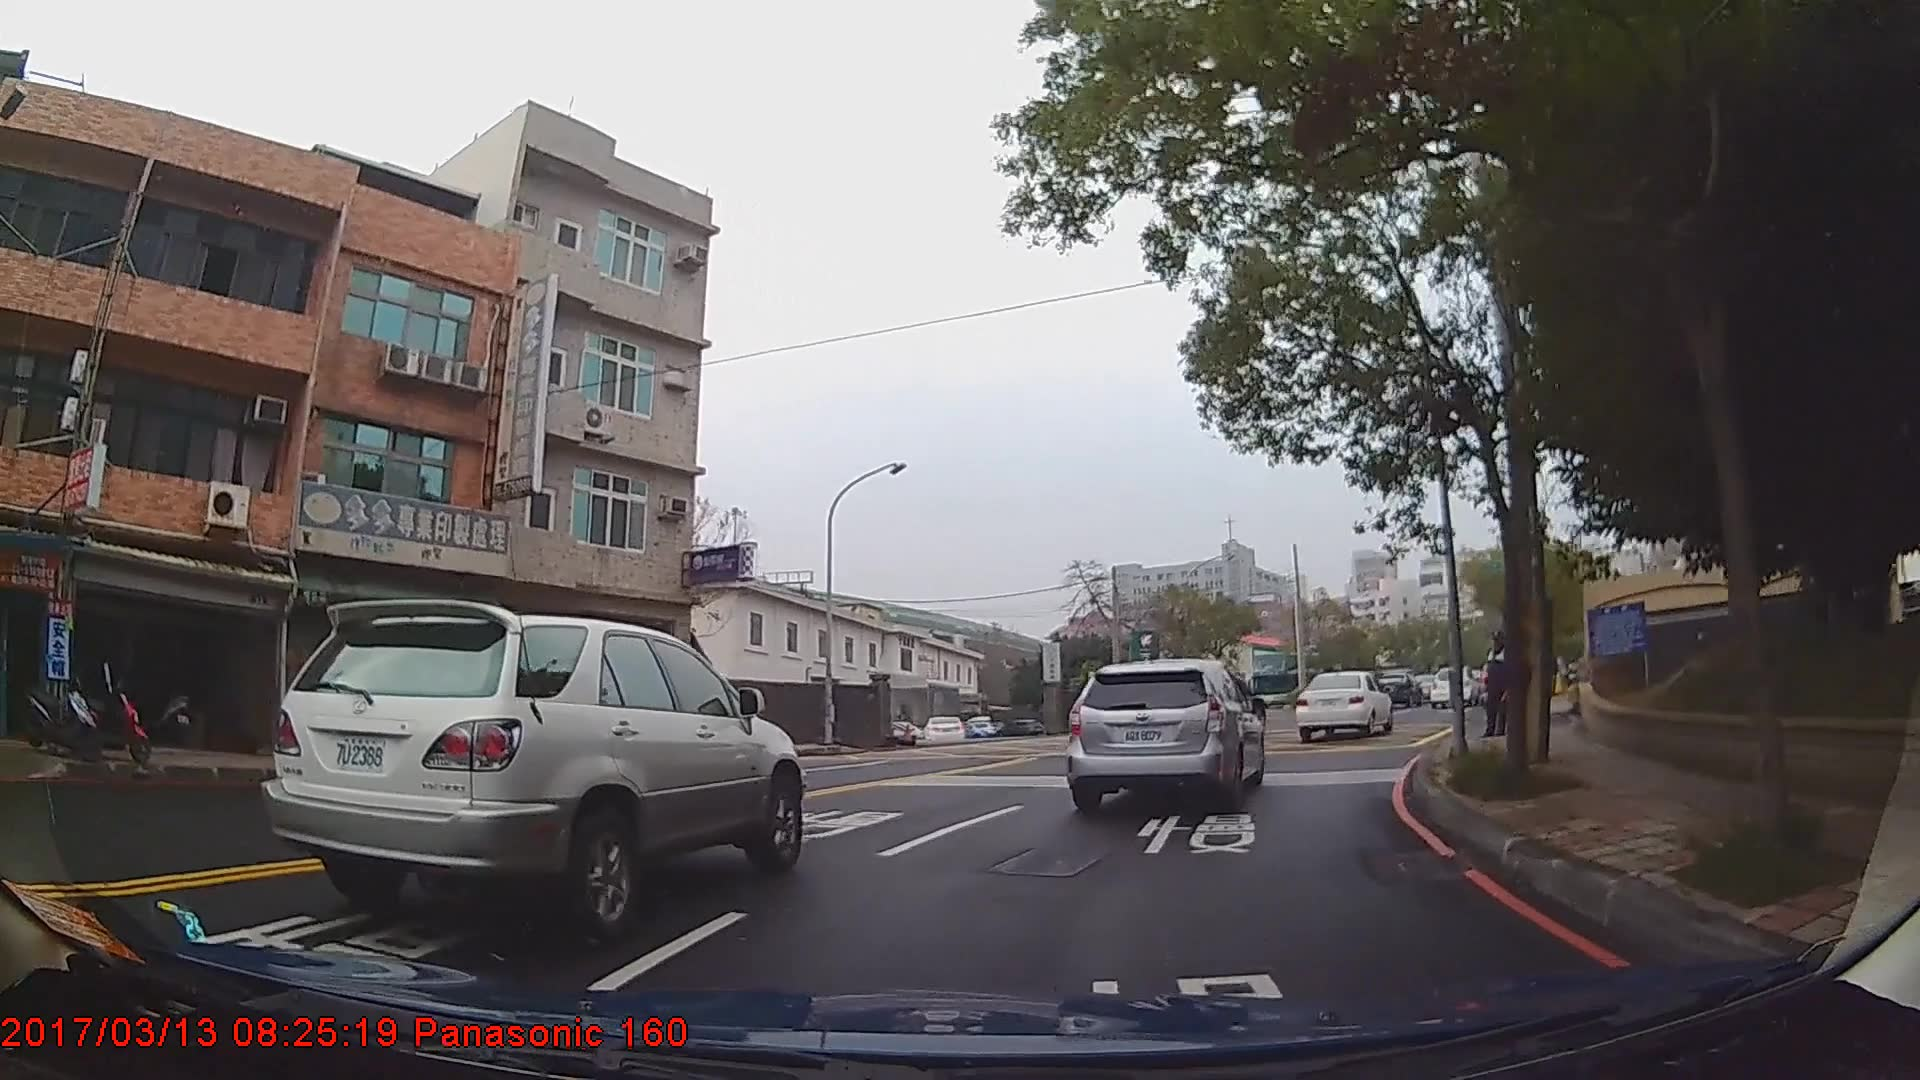pedestrian: (1487, 634, 1522, 745)
vehicle: (257, 602, 806, 949), (1065, 658, 1266, 811), (1291, 671, 1393, 739), (1428, 665, 1480, 712), (922, 716, 967, 745), (990, 718, 1045, 738)
